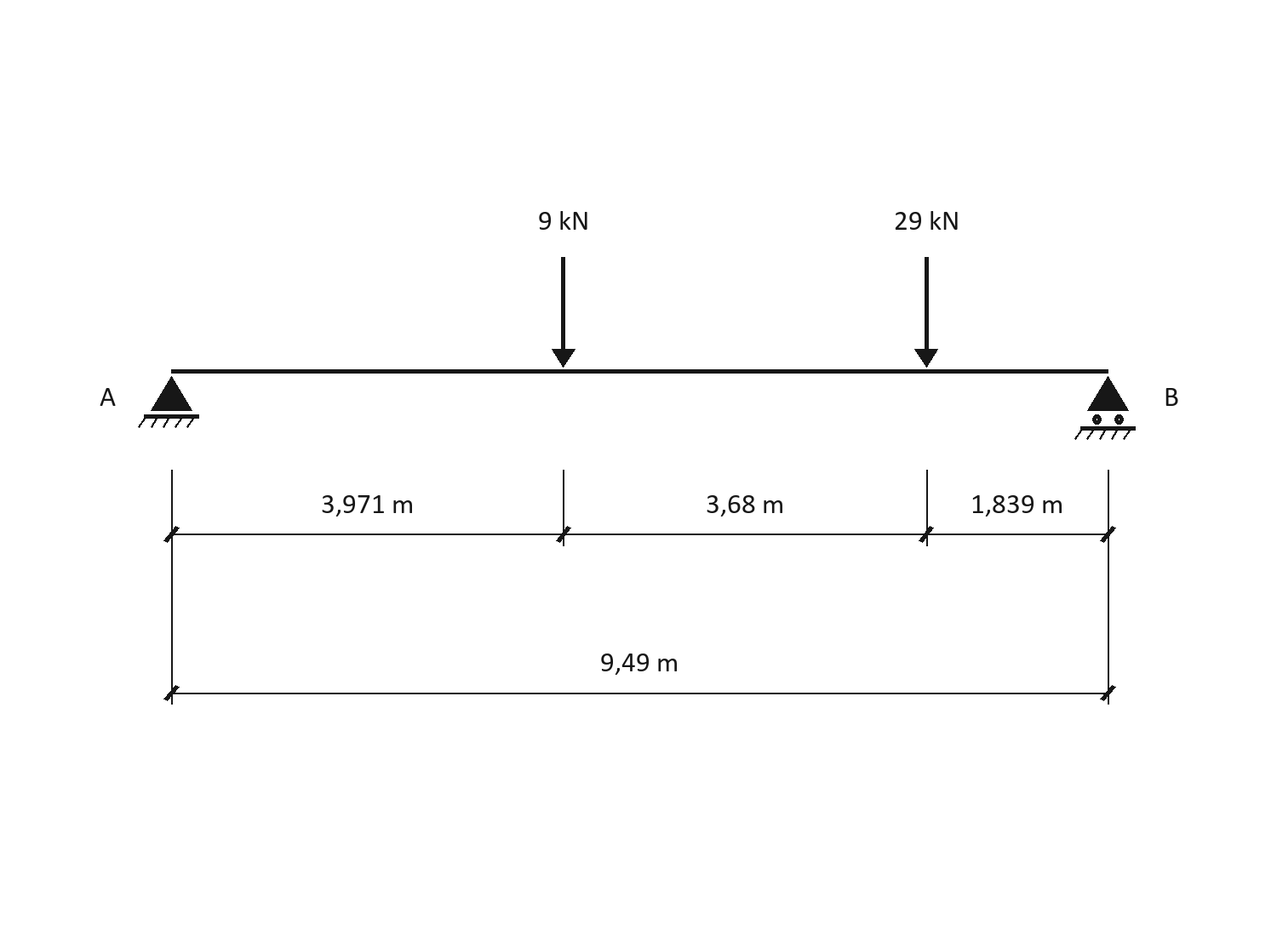pin_support: (138, 376, 199, 428)
point_load: (552, 257, 576, 368), (914, 257, 938, 368)
roller_support: (1074, 376, 1136, 440)
